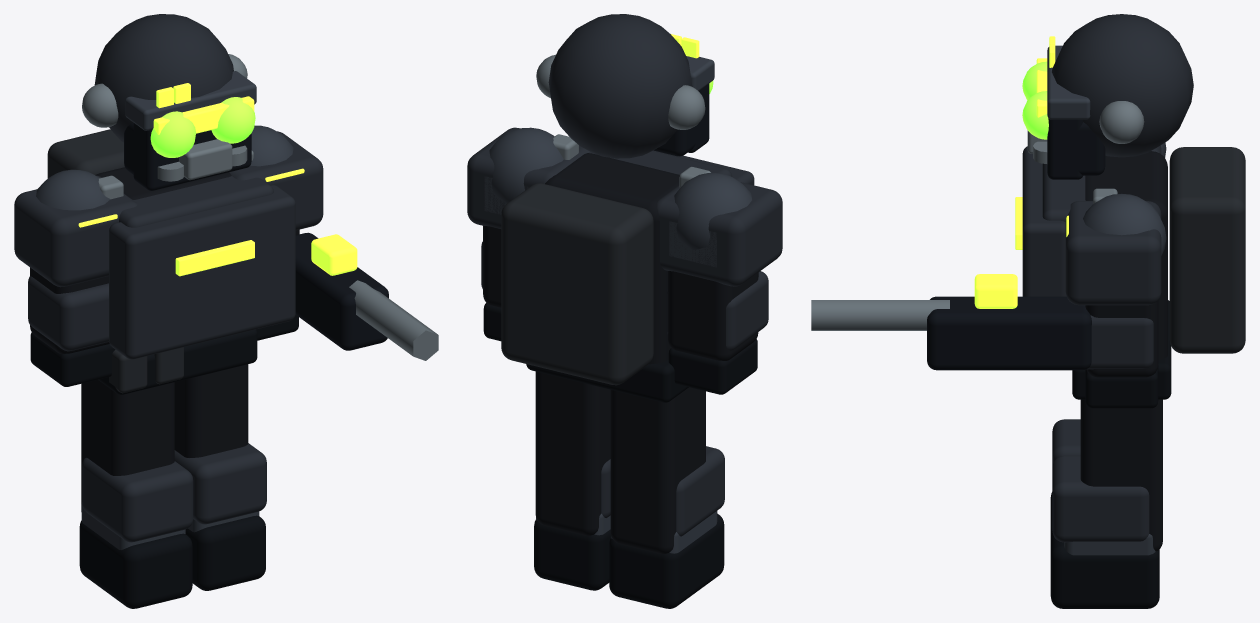
Rendered from sentinel_l02.glb.
3 views of the same model, side by side, from view 1: azimuth 30°, elevation 25°; view 2: azimuth 150°, elevation 25°; view 3: azimuth 270°, elevation 25° (orthographic). The views are drawn at different scales.
Parts seen in each view (by area): view 1: tactical_chest_plate, trouser (×2), shaped_knee_guard (×2), boot (×2), broad_shoulder_guard (×2), rounded_helmet, heavy_carbine, forearm_plate, segmented_vest, shoulder_joint (×2), heavy_barrel, belt (+17 smaller); view 2: field_pack, trouser (×2), rounded_helmet, boot (×2), broad_shoulder_guard (×2), shoulder_joint (×2), sleeve (×2), body, glove (×2), shaped_knee_guard (×2), forearm_plate, belt (+9 smaller); view 3: field_pack, rounded_helmet, heavy_carbine, broad_shoulder_guard, trouser, shaped_knee_guard (×2), boot, tactical_chest_plate, body, heavy_barrel, forearm_plate, shoulder_joint (+11 smaller).
Boxes of the visible parts, <box> form: tactical_chest_plate: <box>109,185,295,359</box>; trouser (×2): <box>81,364,248,511</box>; shaped_knee_guard (×2): <box>82,443,266,542</box>; boot (×2): <box>79,515,265,608</box>; broad_shoulder_guard (×2): <box>14,131,323,287</box>; rounded_helmet: <box>94,14,233,142</box>; heavy_carbine: <box>295,232,388,350</box>; forearm_plate: <box>28,276,109,351</box>; segmented_vest: <box>119,176,273,227</box>; shoulder_joint (×2): <box>36,125,293,210</box>; heavy_barrel: <box>349,280,438,360</box>; belt: <box>98,329,257,394</box>; field_pack: <box>501,183,653,385</box>; trouser (×2): <box>535,371,705,553</box>; rounded_helmet: <box>548,14,692,158</box>; boot (×2): <box>534,513,724,608</box>; broad_shoulder_guard (×2): <box>467,127,782,286</box>; shoulder_joint (×2): <box>489,127,751,250</box>; sleeve (×2): <box>483,226,758,360</box>; body: <box>545,153,679,364</box>; glove (×2): <box>483,303,757,394</box>; shaped_knee_guard (×2): <box>601,446,724,536</box>; forearm_plate: <box>667,271,768,350</box>; belt: <box>526,360,688,402</box>; field_pack: <box>1169,147,1245,353</box>; rounded_helmet: <box>1052,14,1193,157</box>; heavy_carbine: <box>927,296,1091,370</box>; broad_shoulder_guard: <box>1065,201,1161,305</box>; trouser: <box>1080,399,1162,551</box>; shaped_knee_guard (×2): <box>1052,419,1149,542</box>; boot: <box>1050,528,1159,608</box>; tactical_chest_plate: <box>1022,146,1066,296</box>; body: <box>1085,151,1167,360</box>; heavy_barrel: <box>811,300,949,330</box>; forearm_plate: <box>1087,315,1153,369</box>; shoulder_joint: <box>1083,193,1166,255</box>.
Size of the model in its own units: 0.96 by 1.86 by 1.31.
